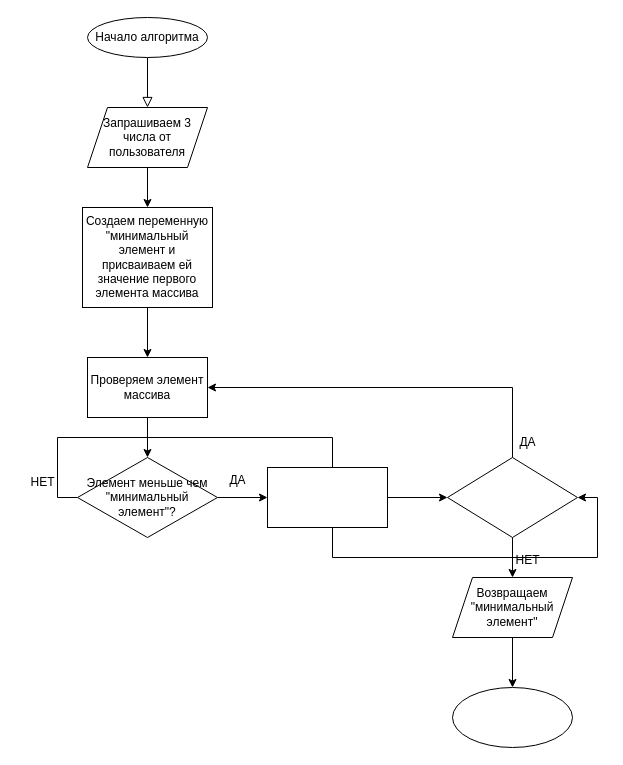
The diagram is 623 pixels wide and 765 high, and some of its shapes have lost their labels. Each missing label, with the centre of its shape:
"Минимальный элемент" = текущий элемент массива: (x=327, y=497)
В массиве остались непроверенные элементы?: (x=512, y=497)
Конец алгоритма: (x=512, y=717)
